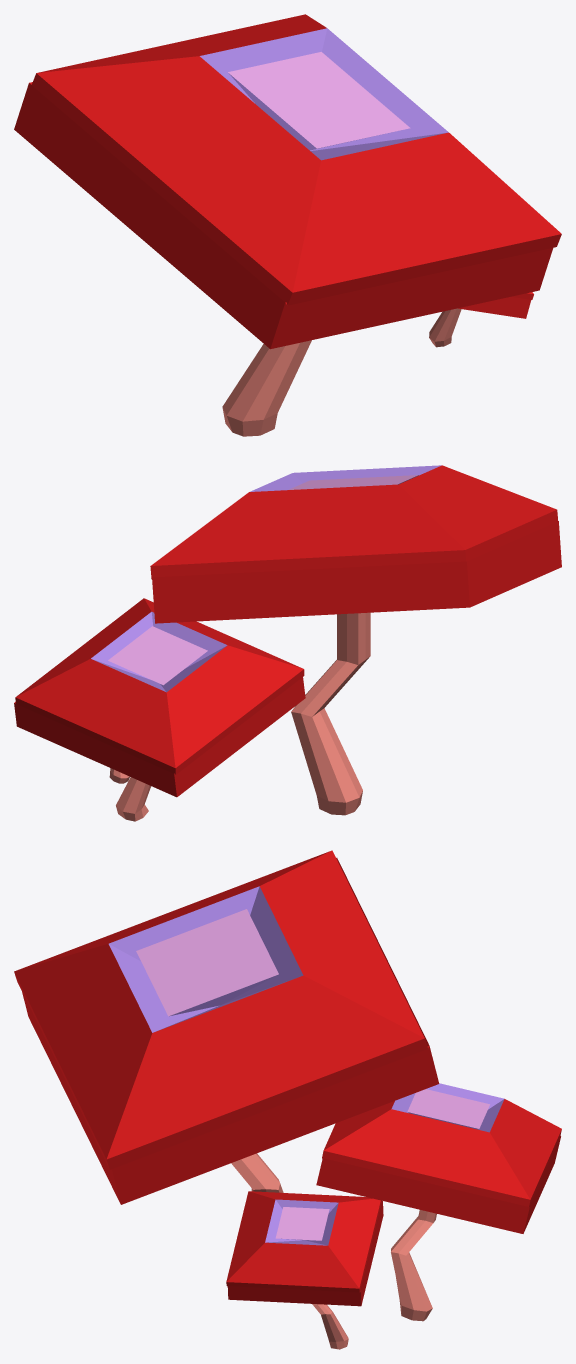
File: tree4_mushroom.glb
3 views of the same model, one above another, from view 1: azimuth 30°, elevation 25°; view 2: azimuth 150°, elevation 25°; view 3: azimuth 270°, elevation 25° (orthographic). The views are drawn at different scales.
Visible parts, largest first — view 1: Cube; view 2: Cube; view 3: Cube.
Part boxes in pixels (<box>): Cube: <box>14,14,561,436</box>; Cube: <box>14,465,561,821</box>; Cube: <box>14,850,561,1349</box>.
Size of the model in its own units: 25.06 by 20.16 by 28.77.
